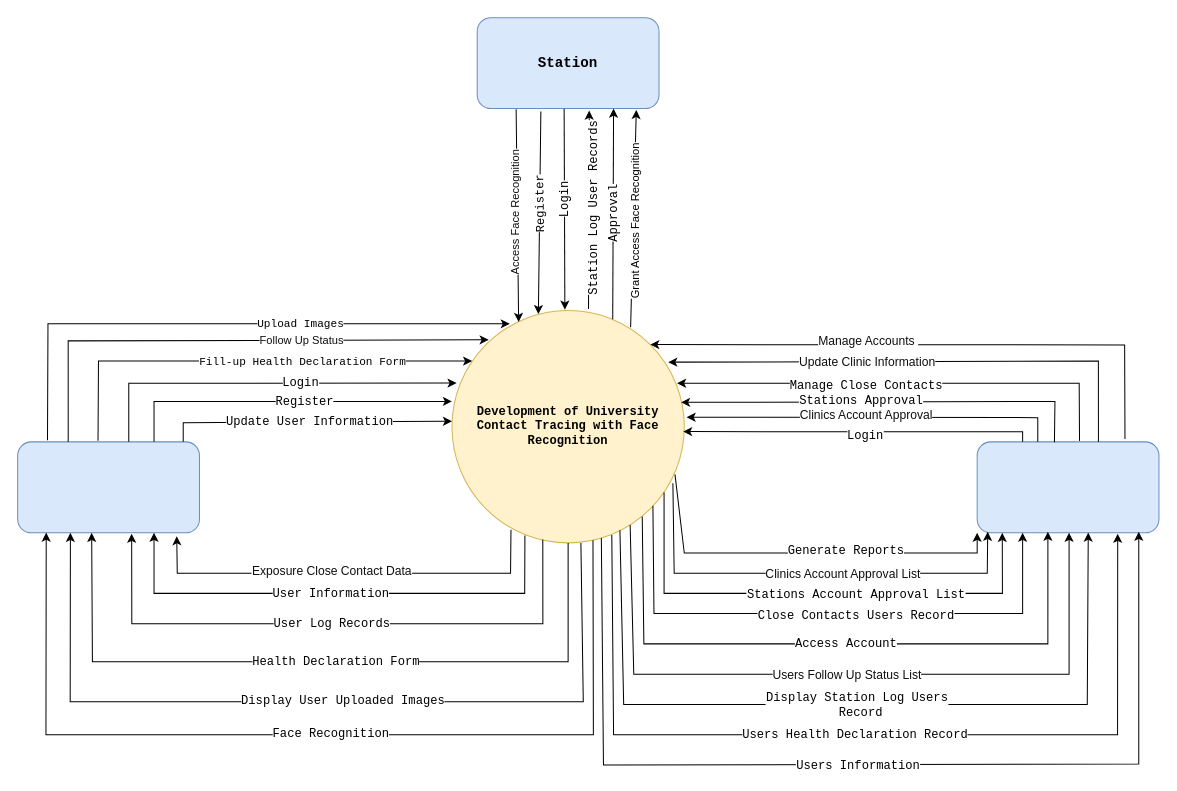
The diagram is 1177 pixels wide and 791 high, and some of its shapes have lost their labels. Here are the shapes that lost their labels. From the top down, the centre of each, then its label:
At point (108, 487): "Users".
At point (1067, 487): "University Clinic".
